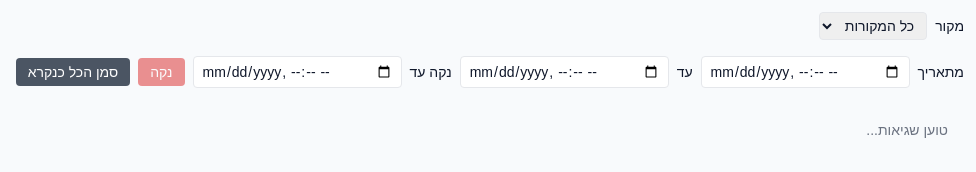
it: clears each datetime picker with its small clear button
Type "2026-08-28T10:00" into the field labelled "מתאריך" at (805, 72), box [701,56,910,88]
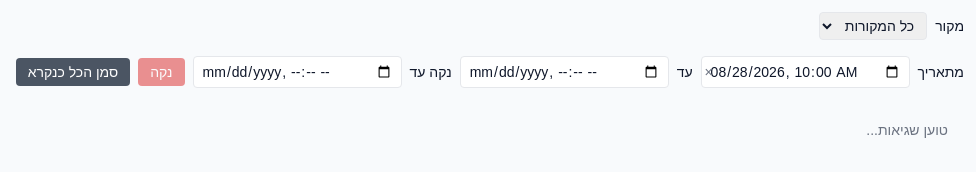
Click the button named "נקה תאריך התחלה" at (709, 72), box [705,62,713,82]
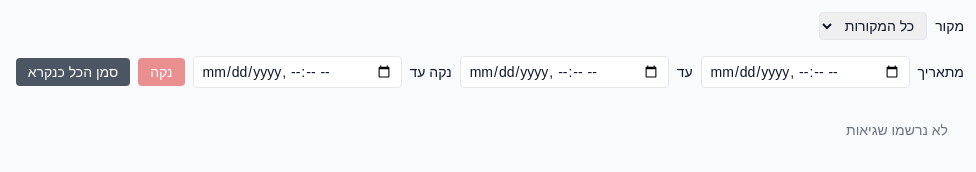
Now the field labelled "מתאריך" is empty, box [701,56,910,88]
